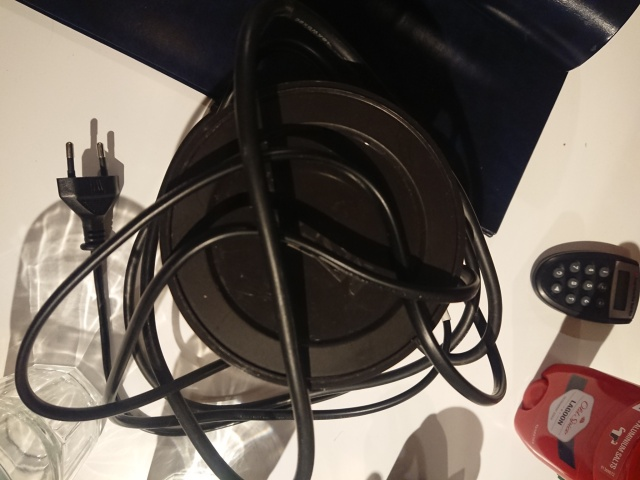Nescafe Classic 225g: (154, 75, 471, 394)
